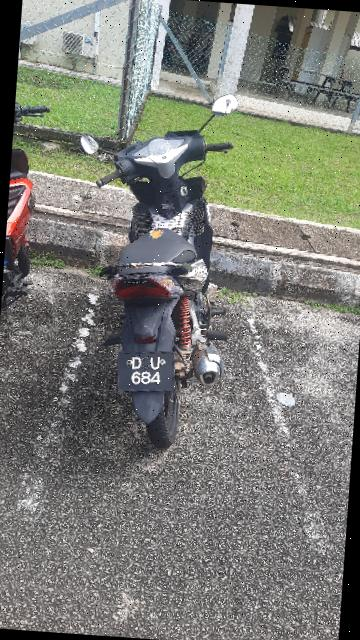License_Plate: (116, 347, 180, 397)
motorcycle: (53, 76, 263, 456)
